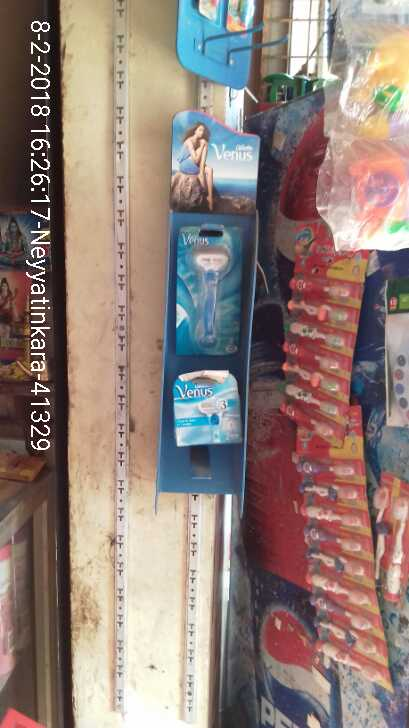venus: (163, 217, 252, 355), (176, 380, 246, 453)
